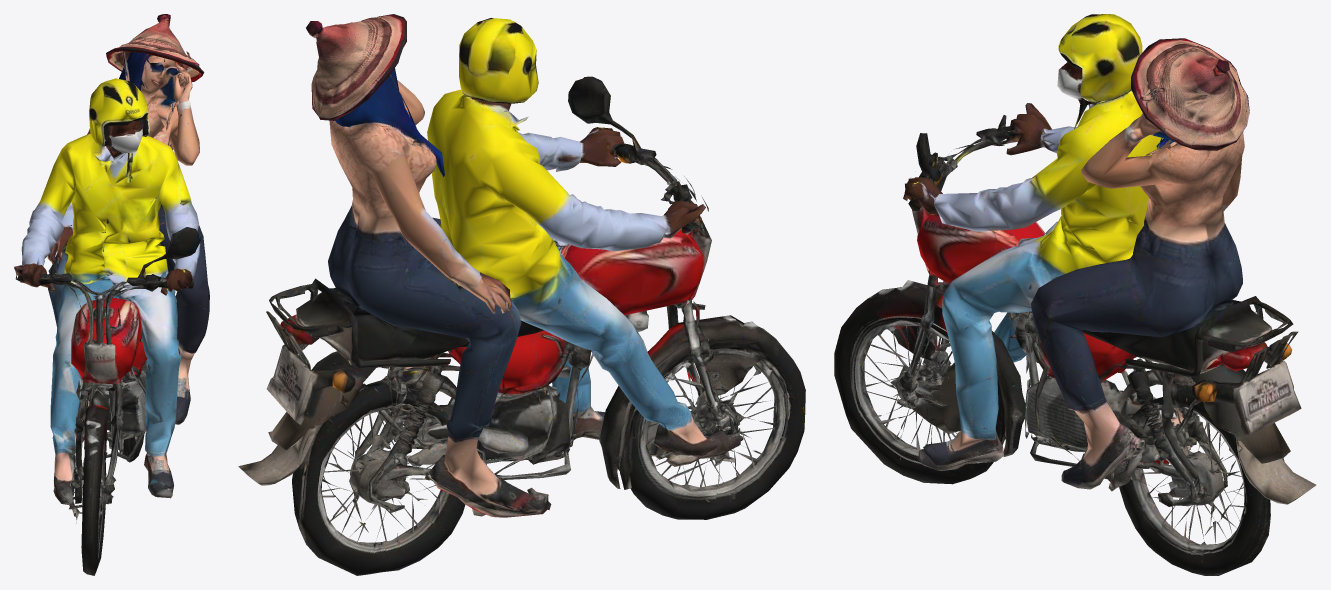
The model's file is zem-lod.glb.
3 views of the same model, side by side, from view 1: azimuth 30°, elevation 25°; view 2: azimuth 150°, elevation 25°; view 3: azimuth 270°, elevation 25° (orthographic). The views are drawn at different scales.
Bounding box in the file's own units: 1.24 × 1.9 × 1.54.
1 material, 1 textured.
